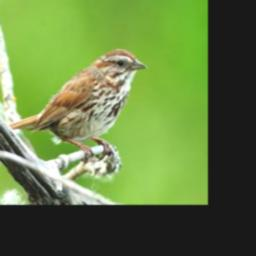Sparrow: (0, 47, 149, 165)
